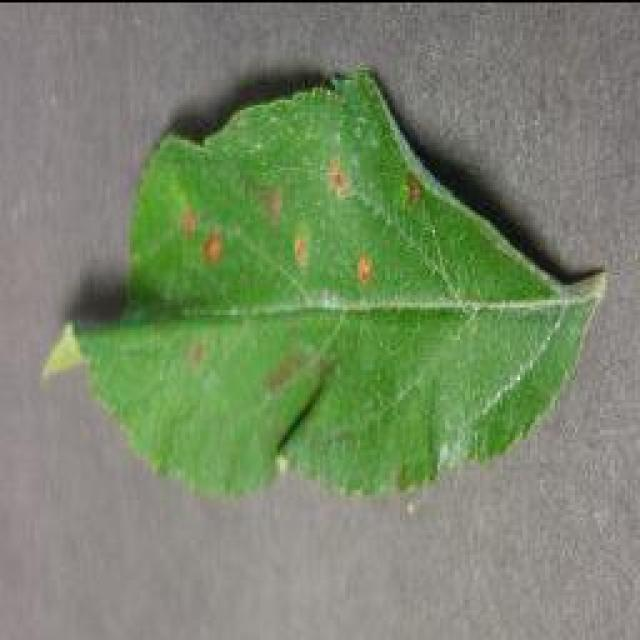apple cedar apple rust: (40, 60, 608, 502)
